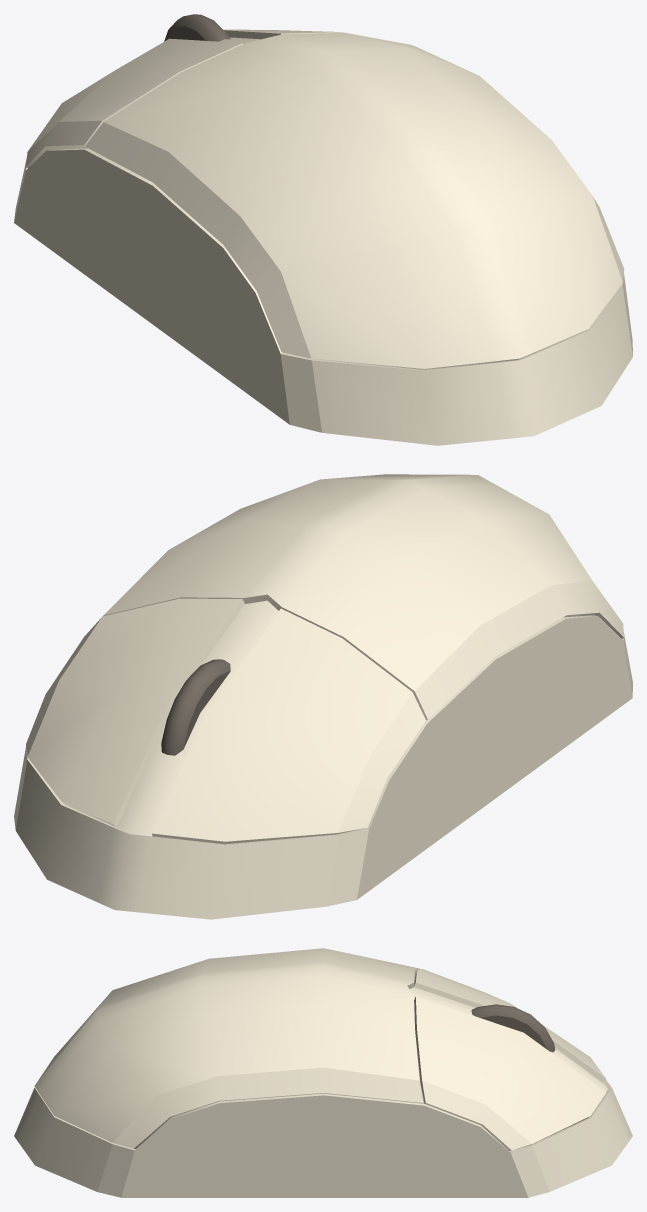
File: SM_Mouse.fbx
The picture shows the model from 3 angles, top to bottom: view 1: azimuth 30°, elevation 25°; view 2: azimuth 150°, elevation 25°; view 3: azimuth 270°, elevation 25°; orthographic projection. The views are drawn at different scales.
Parts seen in each view (by area): view 1: SM_Mouse; view 2: SM_Mouse; view 3: SM_Mouse.
Boxes of the visible parts, x1,y1,x2,y2 form: SM_Mouse: (14, 14, 632, 445); SM_Mouse: (14, 474, 632, 919); SM_Mouse: (14, 948, 632, 1197).
Size of the model in its own units: 0.0709 by 0.0455 by 0.1501.
